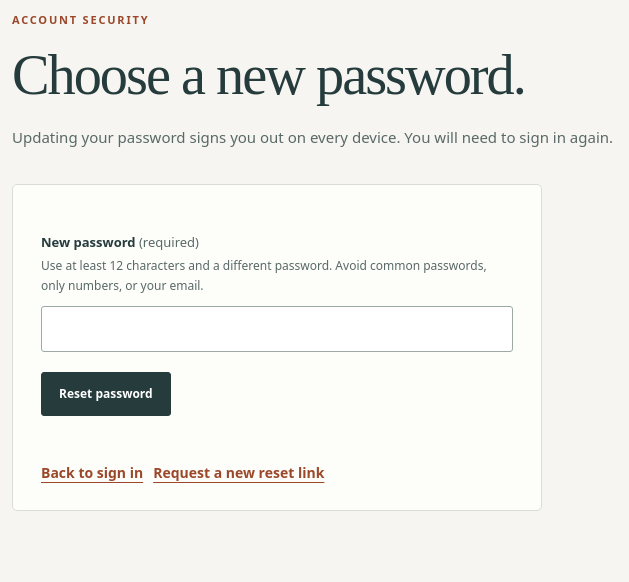
Test: reset links require explicit submission and clear passwords on rejection
The image size is (629, 582).
Type "synthetic-new-password" into the password field labelled "New password (required)".
click(277, 328); type("synthetic-new-password")  # box x1=41 y1=306 x2=513 y2=352
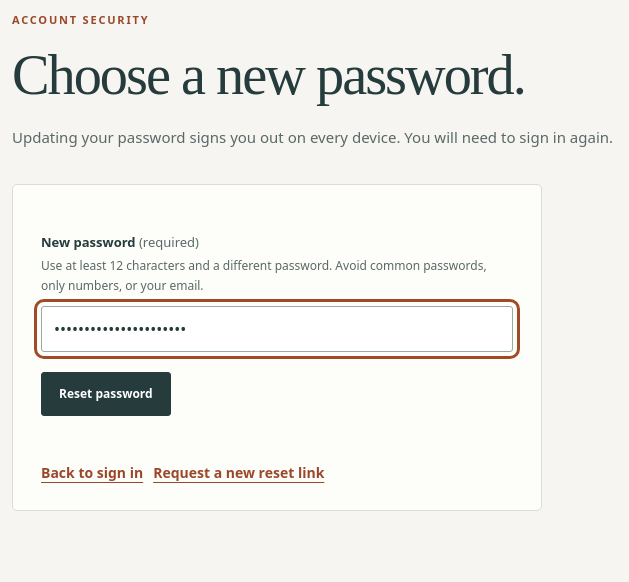
Click the button "Reset password".
click(106, 394)  # box x1=41 y1=372 x2=171 y2=416
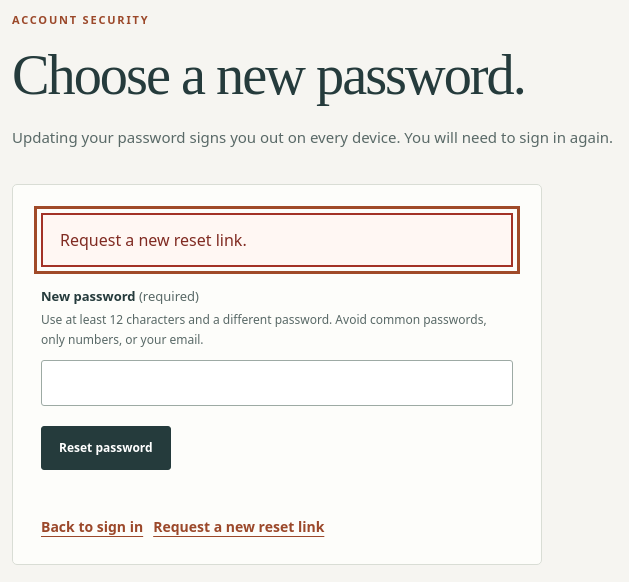
Expected: the message shows "Request a new reset link", x1=60 y1=229 x2=247 y2=251
Expected: the password field labelled "New password (required)" is empty, x1=41 y1=360 x2=513 y2=406
